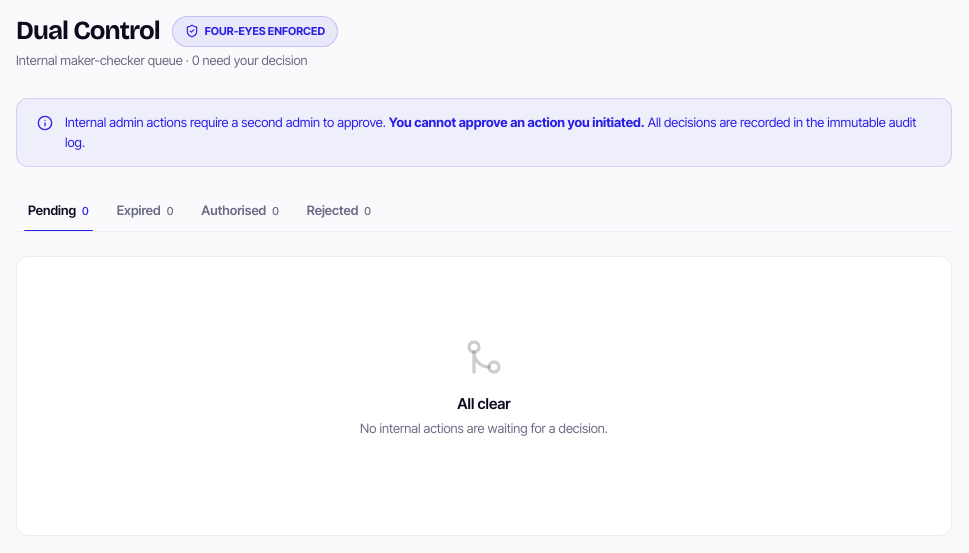
Scenario: Dual Control queue › expired items are read-only and say when they expired
Click the tab "Expired0".
click(145, 211)  # box [105,191,185,230]
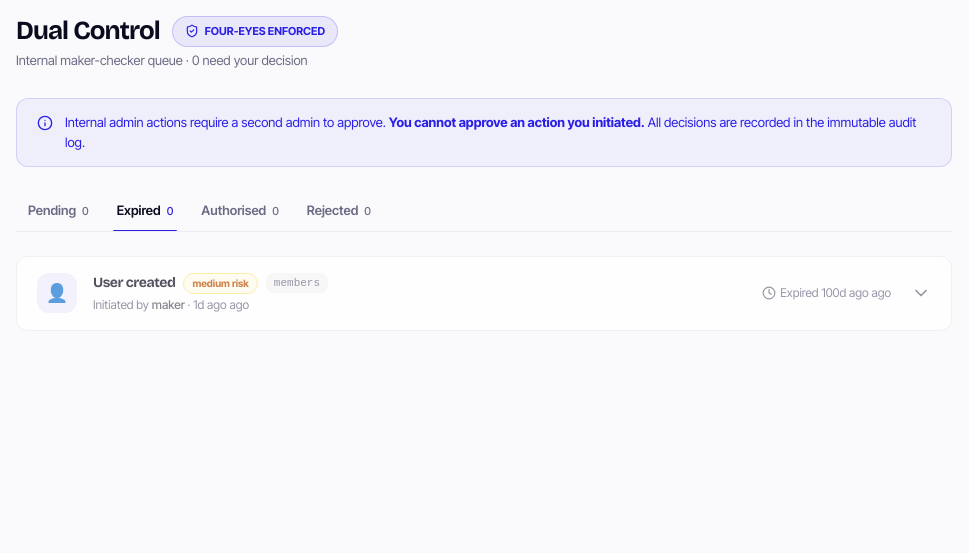
Check: the text "Expired 100d ago ago" is shown, box [762,284,891,302]
